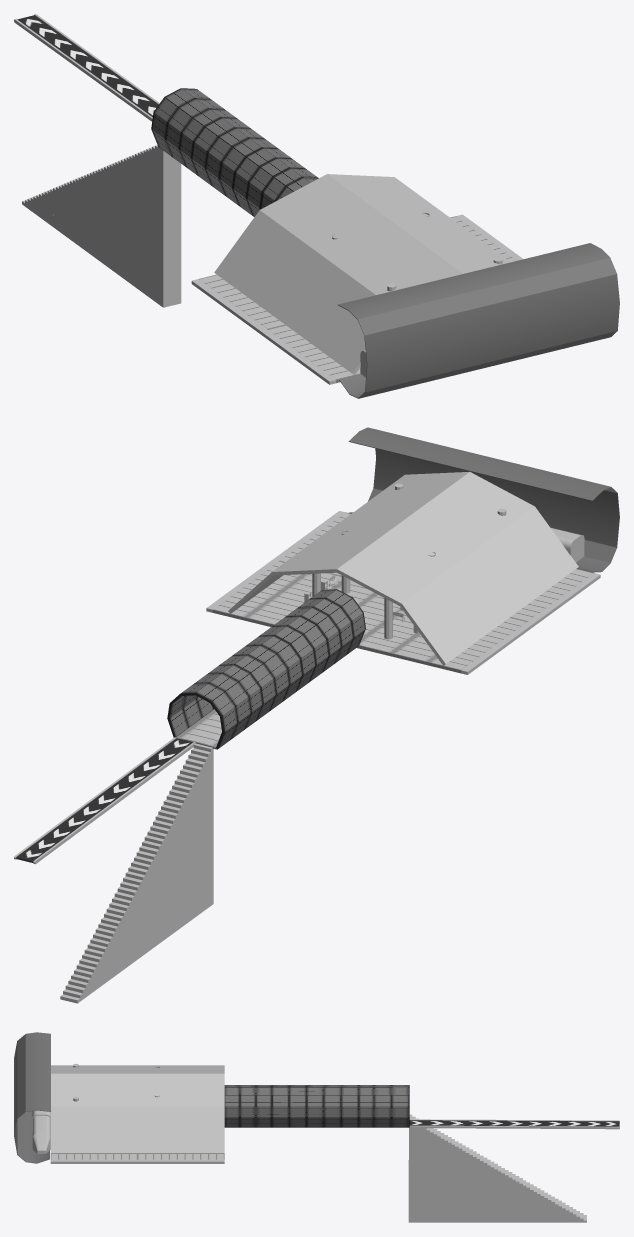
The model's file is subway_test_3.fbx.
3 renders of one model, top to bottom at view 1: azimuth 30°, elevation 25°; view 2: azimuth 150°, elevation 25°; view 3: azimuth 270°, elevation 25°, orthographic. The views are drawn at different scales.
Parts seen in each view (by area): view 1: Circle.007, Circle.011, Cube.003, Circle.003, Cube.001, Cube.004, Cube.006; view 2: Circle.007, Cube.003, Circle.003, Circle.011, Cube.004, Cube.001, Cube.006, Circle.009; view 3: Circle.007, Cube.003, Circle.003, Circle.011, Cube.001, Cube.004, Cube.006, Cube.040.
Boxes of the visible parts, x1,y1,x2,y2 form: Circle.007: (214, 174, 510, 375); Circle.011: (338, 243, 619, 398); Cube.003: (22, 145, 181, 307); Circle.003: (151, 88, 318, 216); Cube.001: (14, 14, 159, 121); Cube.004: (191, 214, 523, 333); Cube.006: (260, 325, 360, 384); Circle.007: (228, 471, 578, 665); Cube.003: (60, 743, 213, 1003); Circle.003: (167, 589, 365, 749); Circle.011: (348, 427, 619, 572); Cube.004: (206, 559, 534, 674); Cube.001: (14, 737, 195, 864); Cube.006: (273, 511, 600, 625); Circle.009: (312, 483, 506, 639); Circle.007: (50, 1065, 224, 1153); Cube.003: (408, 1114, 586, 1222); Circle.003: (224, 1085, 409, 1127); Circle.011: (14, 1032, 50, 1163); Cube.001: (409, 1119, 619, 1129); Cube.004: (137, 1154, 224, 1163); Cube.006: (50, 1154, 137, 1163); Cube.040: (32, 1115, 50, 1153).
Size of the model in its own units: 41781 by 35293 by 128126.
